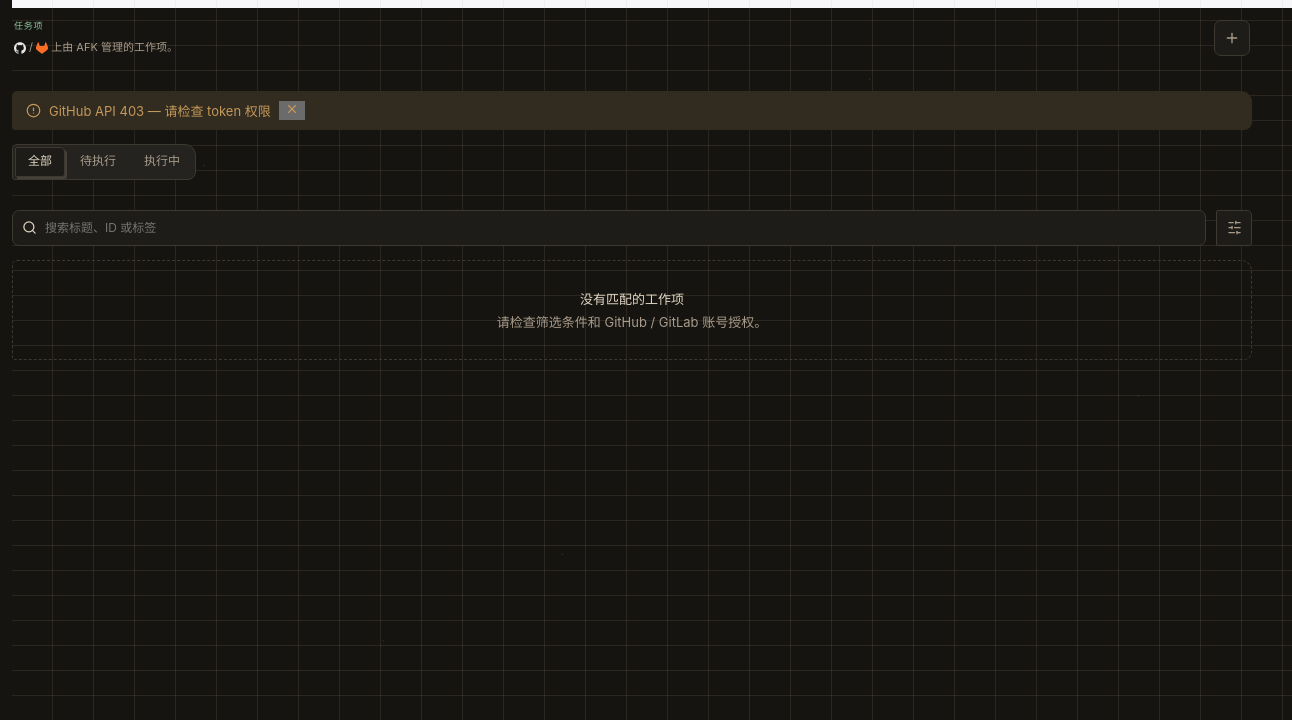
it: BacklogPage error states › renders an error banner with a dismiss control when the list rejects
Click the button named "关闭错误": (292, 110) [279,101,305,120]
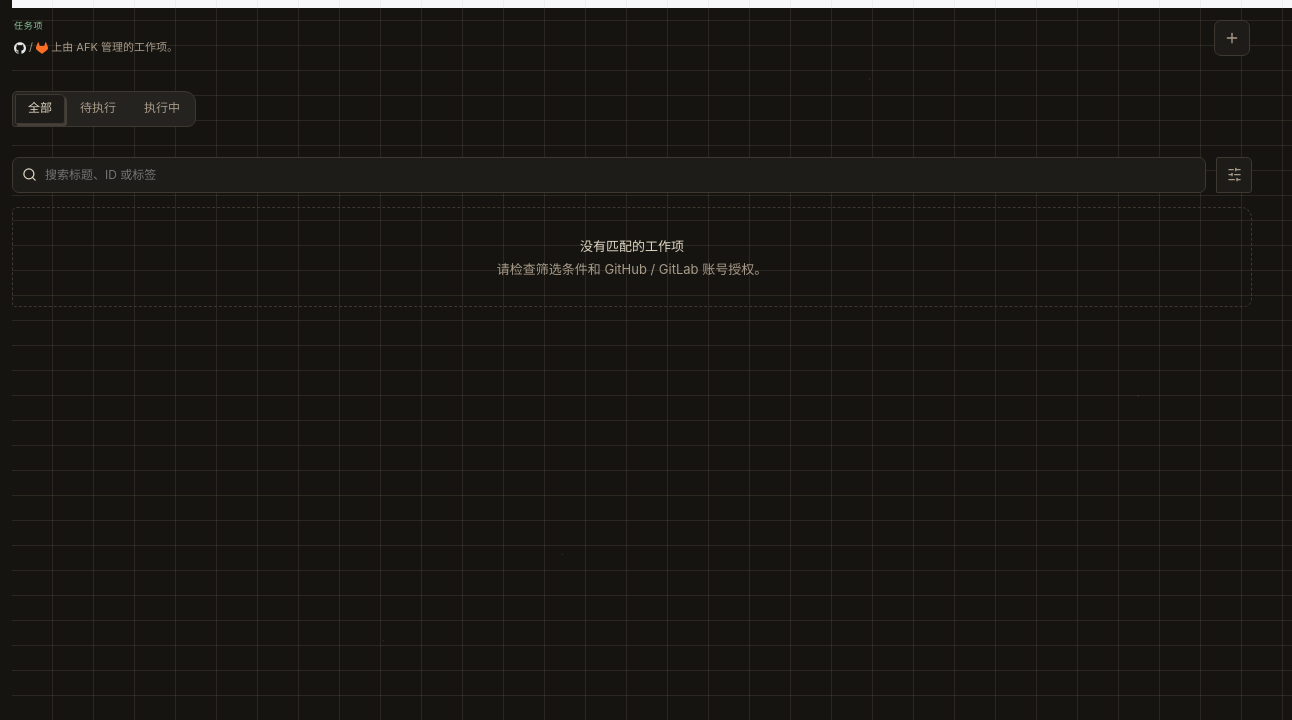
Result: no messages are shown
